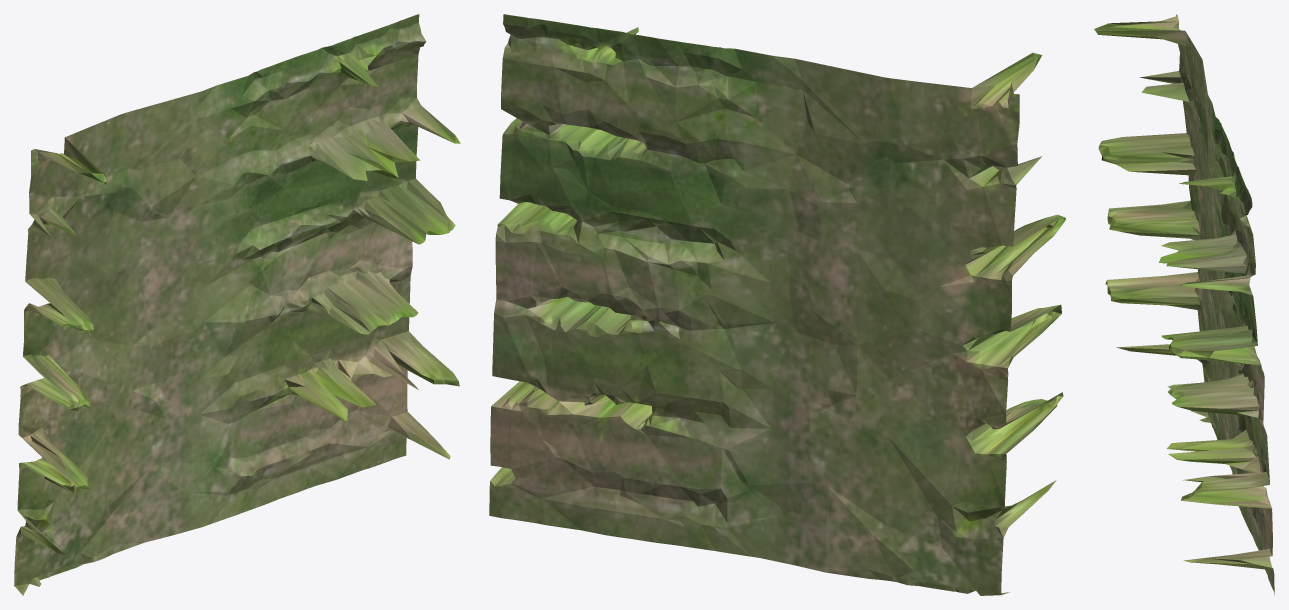
Rendered from map_140_10.obj.
3 views of the same model, side by side, from view 1: azimuth 30°, elevation 25°; view 2: azimuth 150°, elevation 25°; view 3: azimuth 270°, elevation 25° (orthographic). The views are drawn at different scales.
Visible parts, largest first — view 1: grp1; view 2: grp1; view 3: grp1.
Part boxes in pixels (x1=…): grp1: x1=14, y1=14, x2=460, y2=595; grp1: x1=489, y1=14, x2=1065, y2=595; grp1: x1=1094, y1=14, x2=1274, y2=595.
Bounding box in the file's own units: 10 × 10 × 4.13.
1 material, 1 textured.
